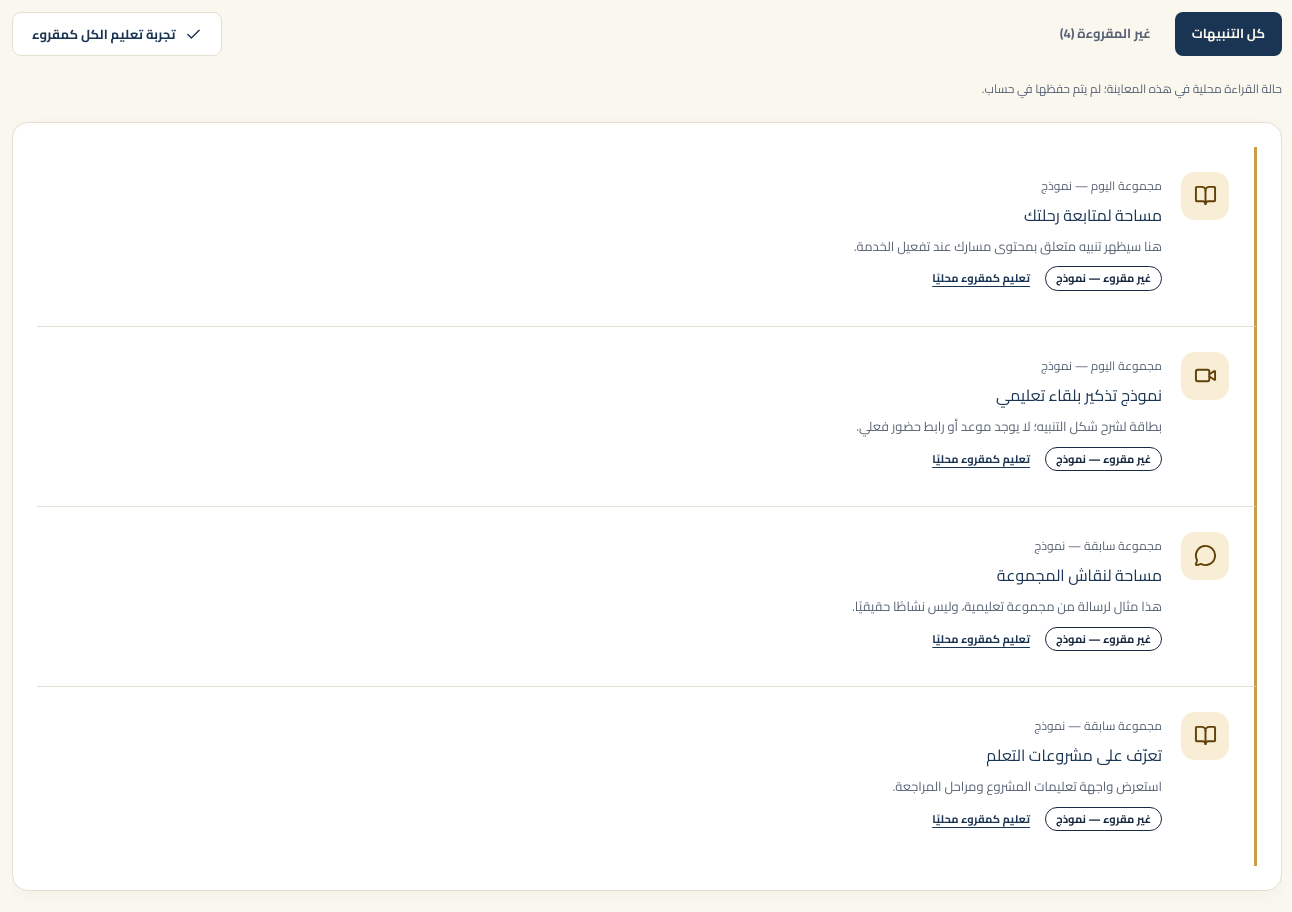
Test: local learner interactions › applies read state in memory and shows the unread empty state
Click the button "تجربة تعليم الكل كمقروء": x=117, y=34 [12, 12, 222, 56]
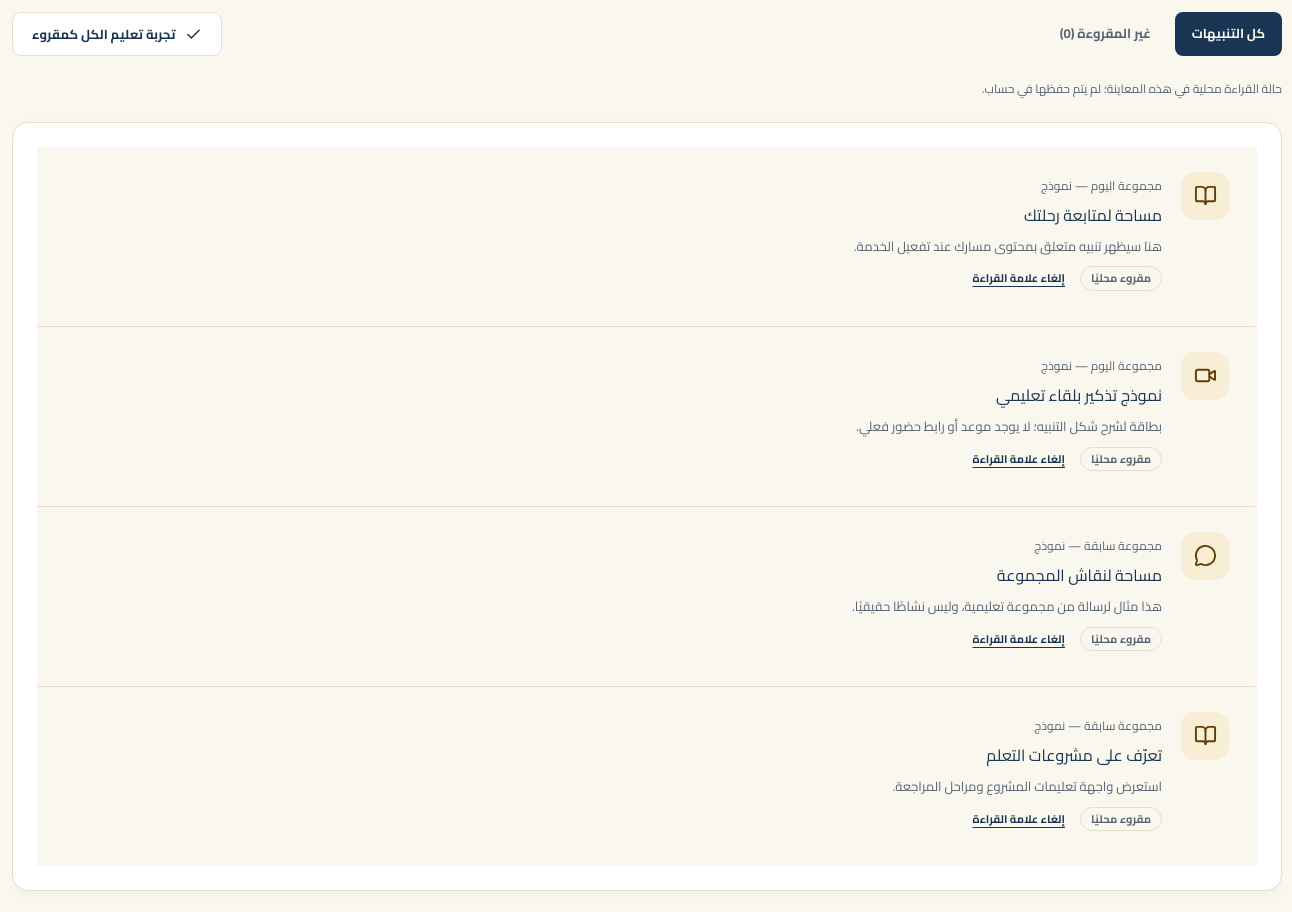
Click the button "غير المقروءة (0)": x=1105, y=34 [1043, 12, 1168, 56]
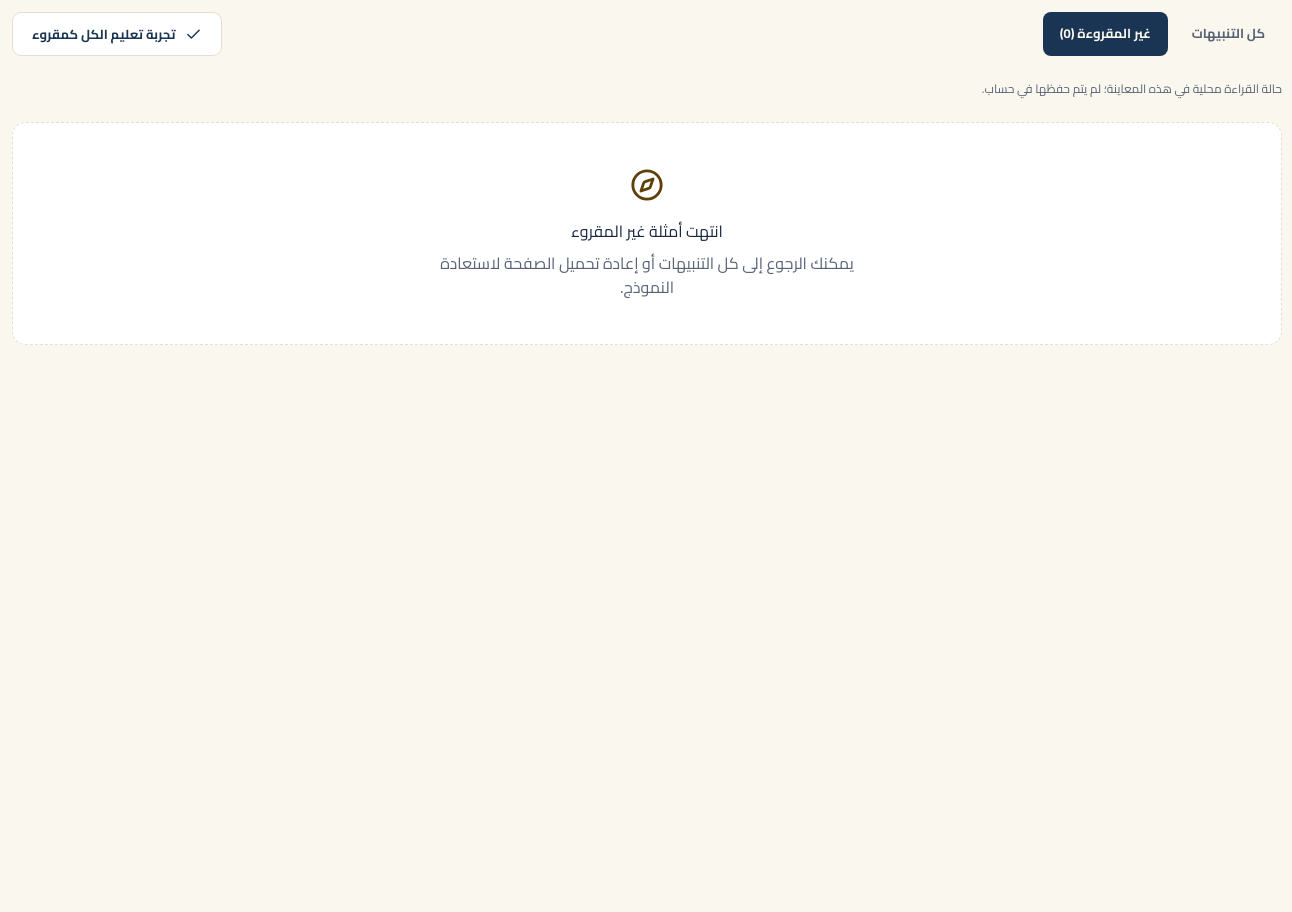
Expected: the message shows "لم يتم حفظها", [982, 77, 1282, 100]
Expected: the heading "انتهت أمثلة غير المقروء" is shown, [571, 219, 723, 243]
